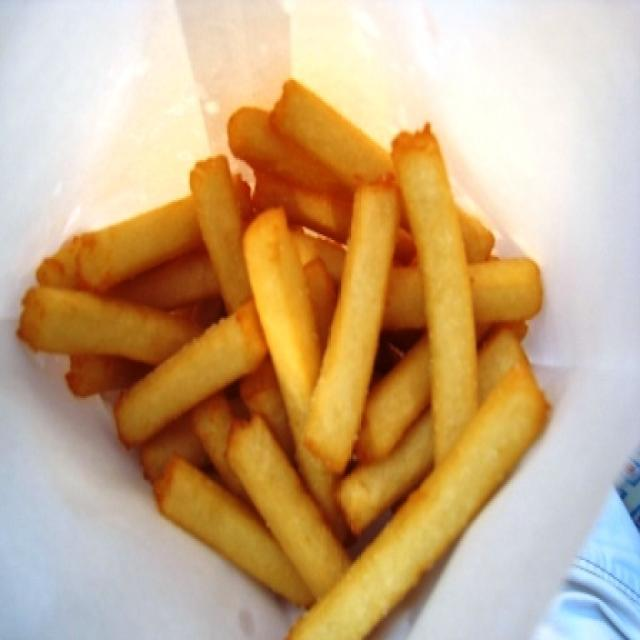French Fries: (42, 78, 547, 579)
